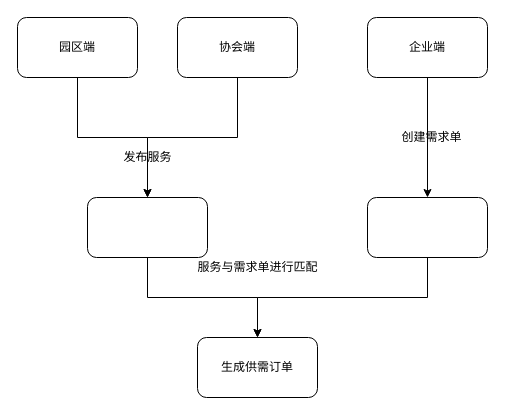
The diagram is 505 pixels wide and 415 high, and some of its shapes have lost their labels. The shapes that lost their labels are listed below. From the top down, each one's centre as x and y in pixels, then its label:
At (147,227): "服务内容".
At (427,227): "需求单".
